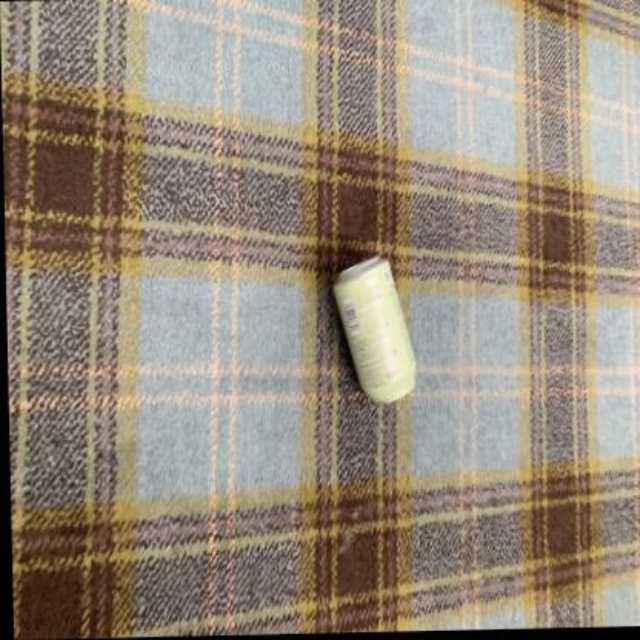trash: (334, 257, 414, 402)
